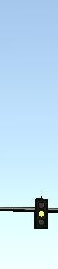Yellow: (34, 198, 48, 229)
